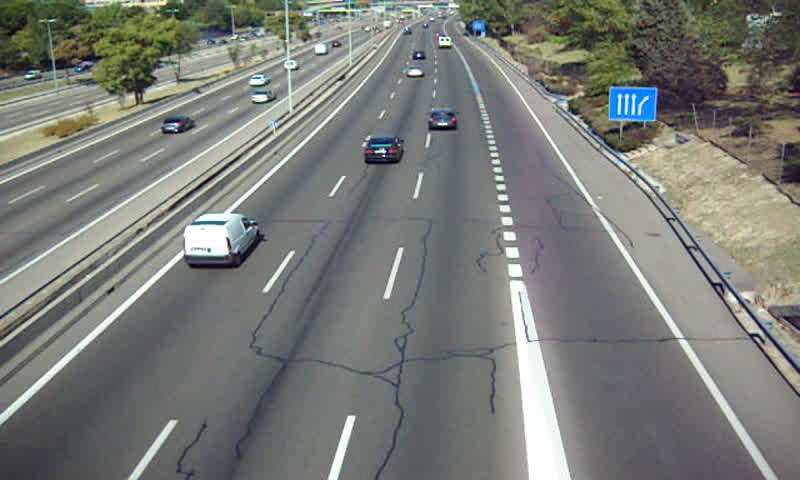car: (364, 136, 405, 164), (428, 109, 459, 131), (405, 64, 424, 78)
van: (183, 213, 259, 267)
